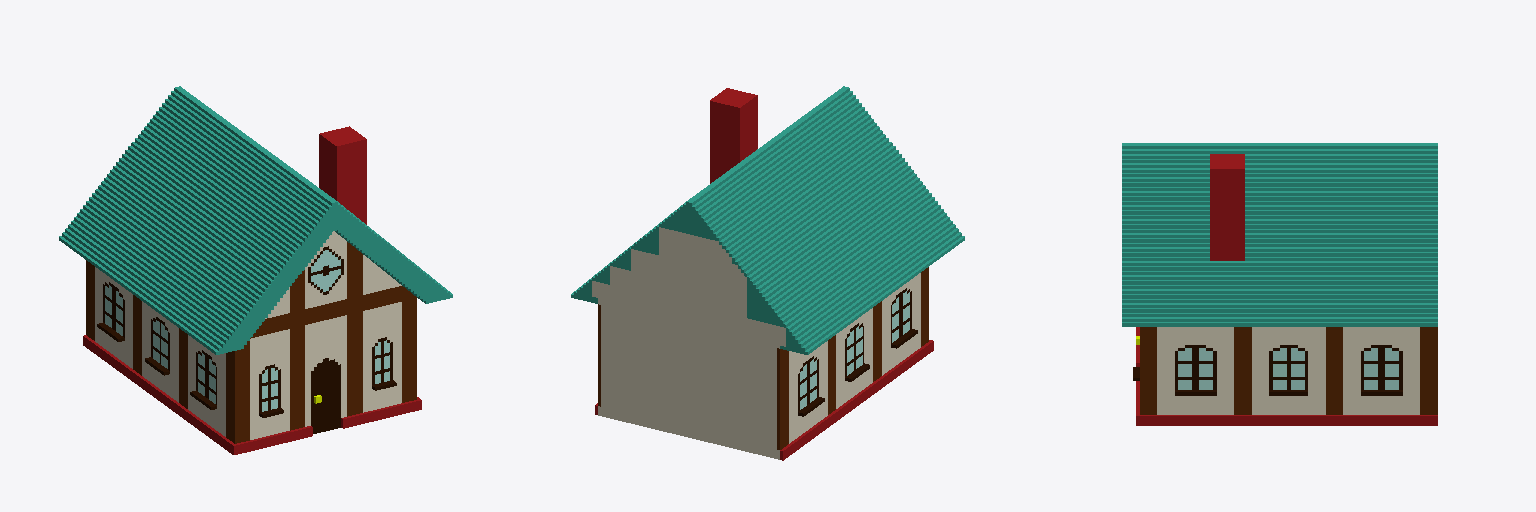
The picture shows the model from 3 angles: view 1: azimuth 30°, elevation 25°; view 2: azimuth 150°, elevation 25°; view 3: azimuth 270°, elevation 25°; orthographic projection.
Parts seen in each view (by area): view 1: object 1; view 2: object 1; view 3: object 1.
Boxes of the visible parts, box(x1,y1,x2,y2) form: object 1: box(59, 86, 452, 454); object 1: box(571, 86, 964, 460); object 1: box(1122, 143, 1437, 425).
Bounding box in the file's own units: 7.8 × 7.8 × 9.
Materials: 1 (1 with a texture image).